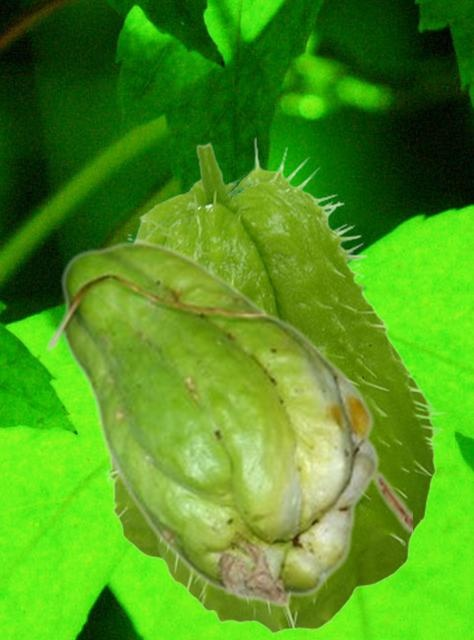sayote: (103, 136, 445, 633), (44, 240, 411, 607)
